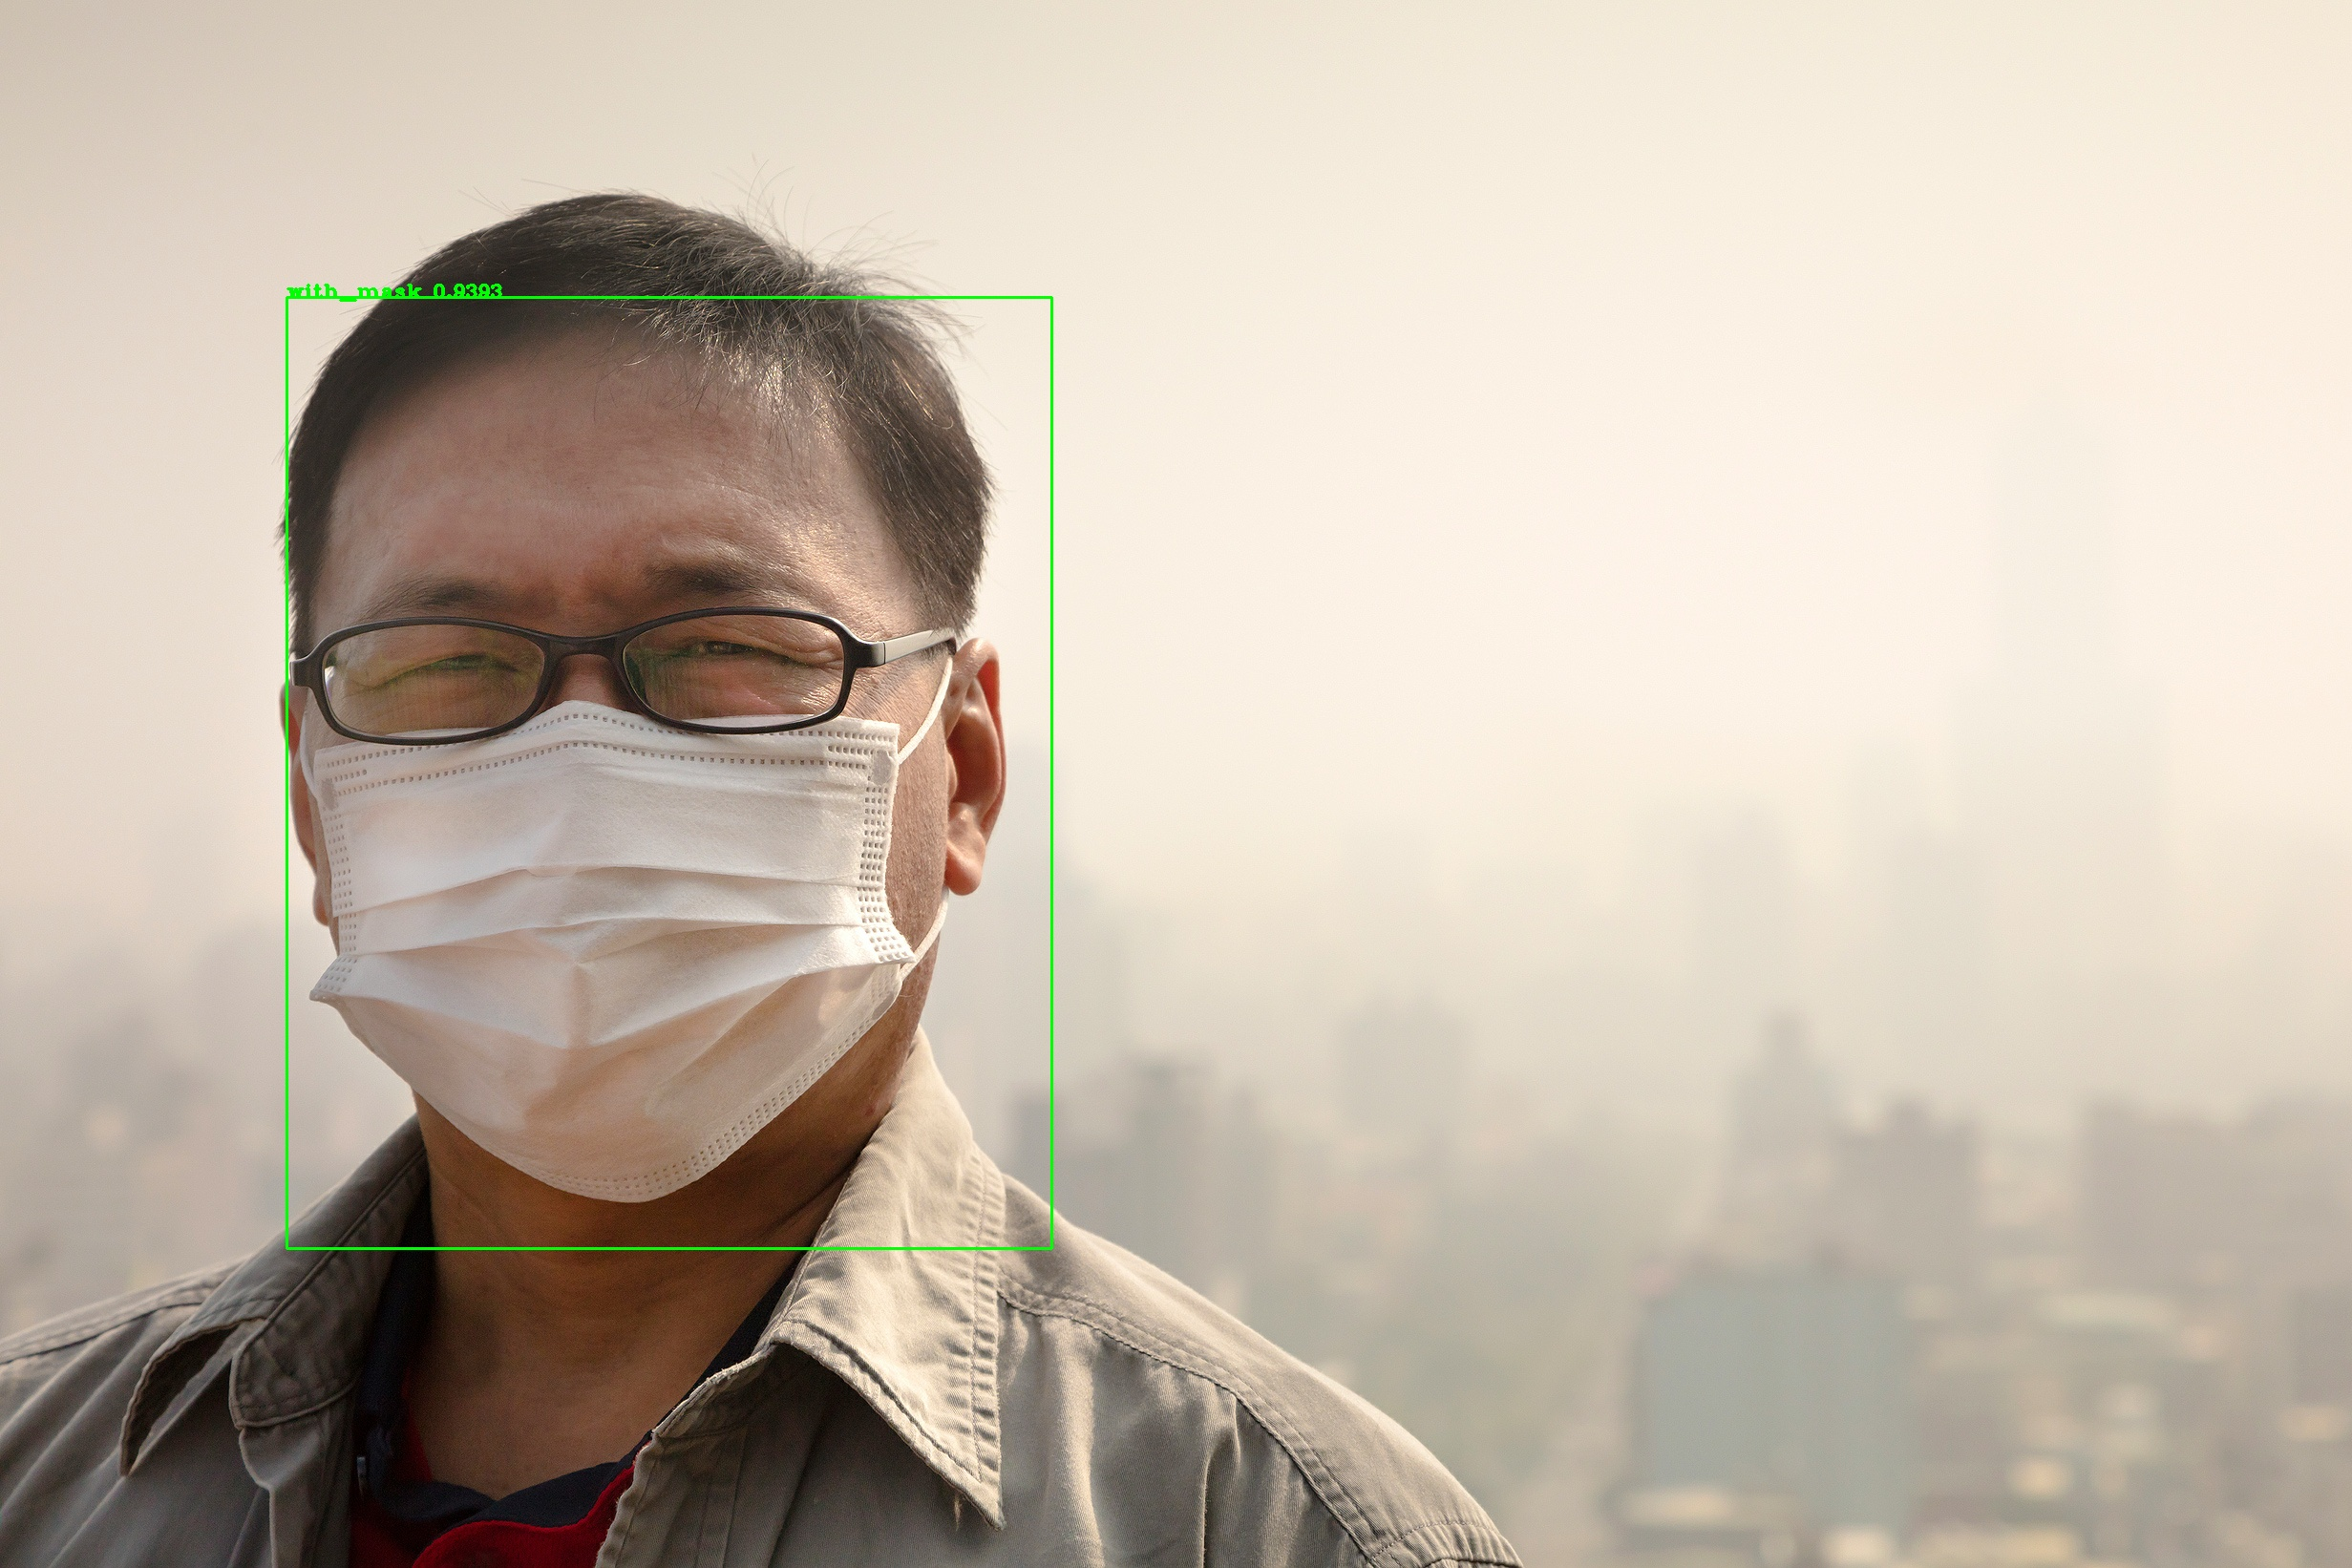with_mask: (272, 330, 1021, 1208)
